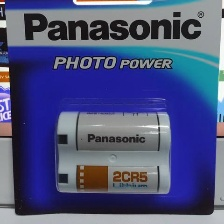battery: (54, 108, 172, 155), (55, 154, 173, 196)
